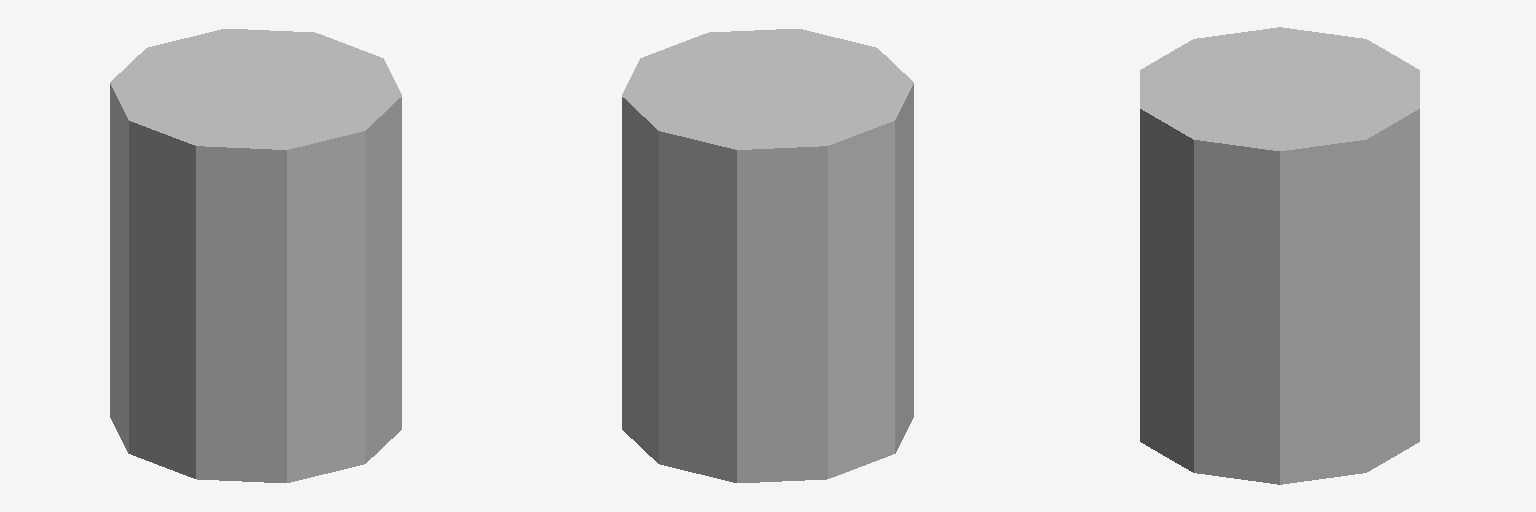
The model's file is barel_s1.obj.
3 renders of one model, left to right at view 1: azimuth 30°, elevation 25°; view 2: azimuth 150°, elevation 25°; view 3: azimuth 270°, elevation 25°, orthographic.
Parts seen in each view (by area): view 1: barel 1; view 2: barel 1; view 3: barel 1.
Boxes of the visible parts, x1=… form: barel 1: x1=110, y1=29, x2=401, y2=482; barel 1: x1=622, y1=29, x2=913, y2=482; barel 1: x1=1140, y1=27, x2=1419, y2=484.
Size of the model in its own units: 0.8 by 1 by 0.7608.